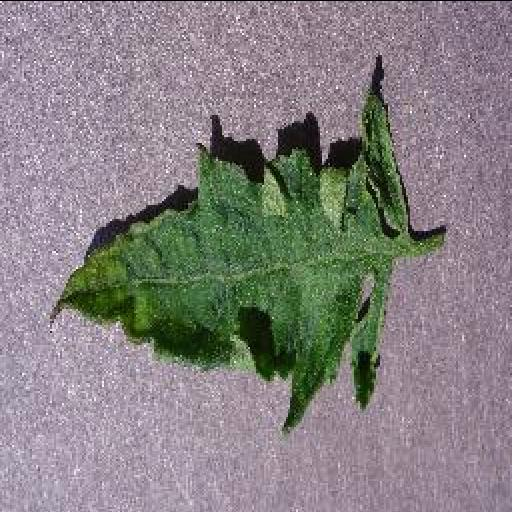disease_tomato: (48, 89, 414, 431)
